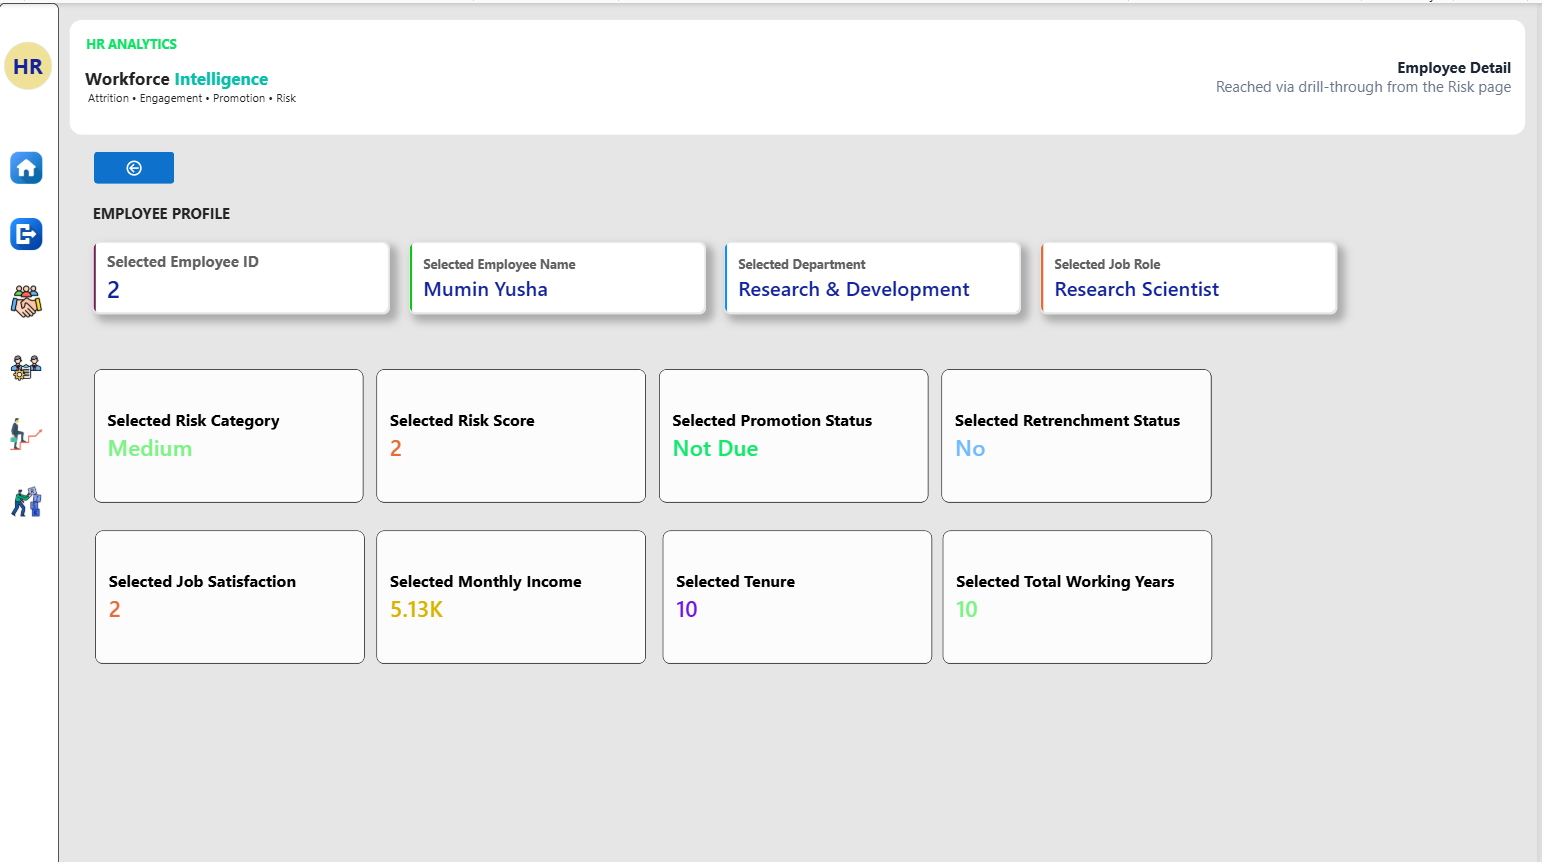

The page's visual inventory and layout, read from the dashboard file:
{"tool":"powerbi","page":{"name":"Employee Detail","canvas":[1920,1080],"ordinal":1},"visuals":[{"type":"group","id":"g1","title":"Navgitor","box":[0,0,1903.3,1079.3],"z":0},{"type":"textbox","box":[86.7,20,1816.7,145],"z":0,"group":"g1"},{"type":"textbox","title":"navbox","box":[0,0,74.1,1079.3],"z":1000,"group":"g1"},{"type":"image","box":[13.3,185.7,40,40],"z":2000,"group":"g1"},{"type":"image","box":[13.3,268.8,40,40],"z":3000,"group":"g1"},{"type":"image","box":[13.3,351.9,40,40],"z":4000,"group":"g1"},{"type":"image","box":[13.3,435,40,40],"z":5000,"group":"g1"},{"type":"image","box":[13.3,518.1,40,40],"z":6000,"group":"g1"},{"type":"actionButton","box":[118.3,185,100,40],"z":7000},{"type":"image","box":[13.3,601.1,40,40],"z":7000,"group":"g1"},{"type":"textbox","title":"HR logo","box":[6.5,47.6,60,60],"z":8000,"group":"g1"},{"type":"textbox","box":[1483.7,49,402,91.8],"z":8000},{"type":"textbox","box":[116.7,245,203.3,43.3],"z":9000},{"type":"cardVisual","fields":{"Data":["#Measures.Selected Employee ID"]},"box":[116.7,298.3,370,90],"z":10000},{"type":"cardVisual","fields":{"Data":["#Measures.Selected Employee Name"]},"box":[510.6,298.3,370,90],"z":11000},{"type":"cardVisual","fields":{"Data":["#Measures.Selected Department"]},"box":[904.4,298.3,370,90],"z":12000},{"type":"cardVisual","fields":{"Data":["#Measures.Selected Job Role"]},"box":[1298.3,298.3,370,90],"z":13000},{"type":"cardVisual","fields":{"Data":["#Measures.Selected Risk Category"]},"box":[118.3,456.7,336,166.7],"z":14000},{"type":"cardVisual","fields":{"Data":["#Measures.Selected Retrenchment Status"]},"box":[1175,456.7,336.7,166.7],"z":15000},{"type":"cardVisual","fields":{"Data":["#Measures.Selected Promotion Status"]},"box":[822.8,456.7,336,166.7],"z":16000},{"type":"cardVisual","fields":{"Data":["#Measures.Selected Risk Score"]},"box":[470.6,456.7,336,166.7],"z":17000},{"type":"cardVisual","fields":{"Data":["#Measures.Selected Job Satisfaction"]},"box":[119.7,658.3,336,166.7],"z":18000},{"type":"cardVisual","fields":{"Data":["#Measures.Selected Monthly Income"]},"box":[471.3,658.3,336,166.7],"z":19000},{"type":"cardVisual","fields":{"Data":["#Measures.Selected Tenure"]},"box":[828,658.3,336,166.7],"z":20000},{"type":"cardVisual","fields":{"Data":["#Measures.Selected Total Working Years"]},"box":[1176.3,658.3,336,166.7],"z":21000}]}

Visuals, with their boxes on the page's 1920x1080 design canvas (x1, y1, x2, y2). These are canvas units, not pixel positions in the 1542x862 screenshot, which may show the page scaled, cropped or inside an application window:
"Navgitor" group: x1=0, y1=0, x2=1903, y2=1079
textbox: x1=87, y1=20, x2=1903, y2=165
"navbox" textbox: x1=0, y1=0, x2=74, y2=1079
image: x1=13, y1=186, x2=53, y2=226
image: x1=13, y1=269, x2=53, y2=309
image: x1=13, y1=352, x2=53, y2=392
image: x1=13, y1=435, x2=53, y2=475
image: x1=13, y1=518, x2=53, y2=558
actionButton: x1=118, y1=185, x2=218, y2=225
image: x1=13, y1=601, x2=53, y2=641
"HR logo" textbox: x1=6, y1=48, x2=66, y2=108
textbox: x1=1484, y1=49, x2=1886, y2=141
textbox: x1=117, y1=245, x2=320, y2=288
cardVisual - #Measures.Selected Employee ID: x1=117, y1=298, x2=487, y2=388
cardVisual - #Measures.Selected Employee Name: x1=511, y1=298, x2=881, y2=388
cardVisual - #Measures.Selected Department: x1=904, y1=298, x2=1274, y2=388
cardVisual - #Measures.Selected Job Role: x1=1298, y1=298, x2=1668, y2=388
cardVisual - #Measures.Selected Risk Category: x1=118, y1=457, x2=454, y2=623
cardVisual - #Measures.Selected Retrenchment Status: x1=1175, y1=457, x2=1512, y2=623
cardVisual - #Measures.Selected Promotion Status: x1=823, y1=457, x2=1159, y2=623
cardVisual - #Measures.Selected Risk Score: x1=471, y1=457, x2=807, y2=623
cardVisual - #Measures.Selected Job Satisfaction: x1=120, y1=658, x2=456, y2=825
cardVisual - #Measures.Selected Monthly Income: x1=471, y1=658, x2=807, y2=825
cardVisual - #Measures.Selected Tenure: x1=828, y1=658, x2=1164, y2=825
cardVisual - #Measures.Selected Total Working Years: x1=1176, y1=658, x2=1512, y2=825
